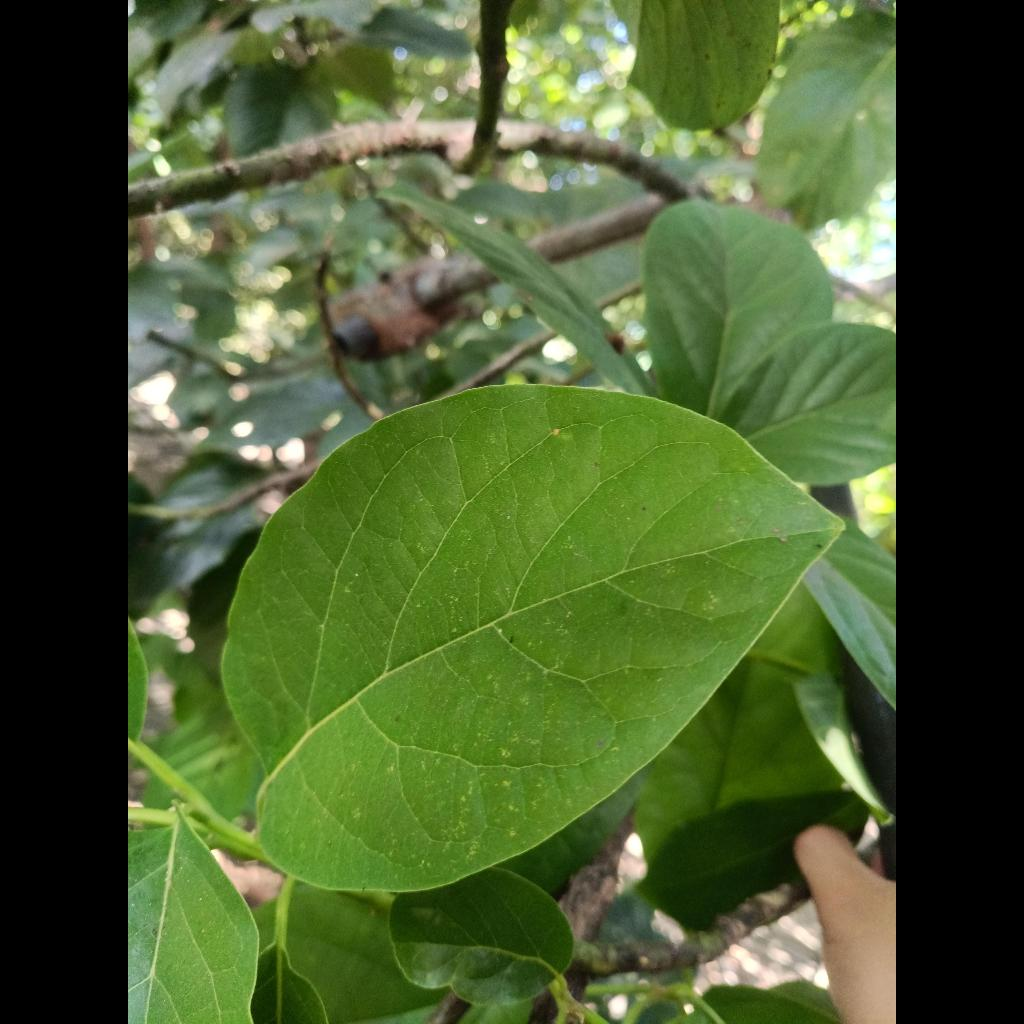Healthy: (224, 386, 840, 891)
